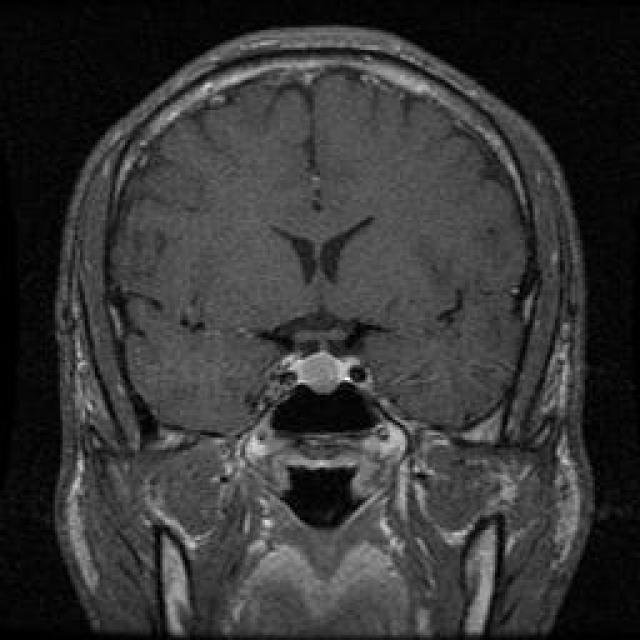pituitary: (270, 336, 391, 422)
